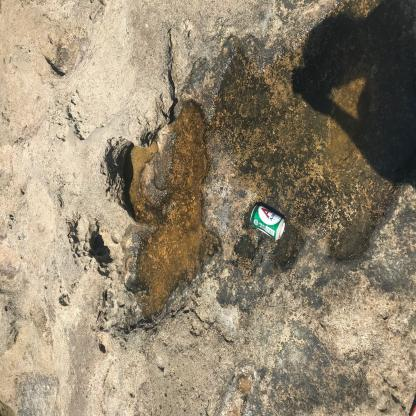trash: (129, 329, 162, 385)
